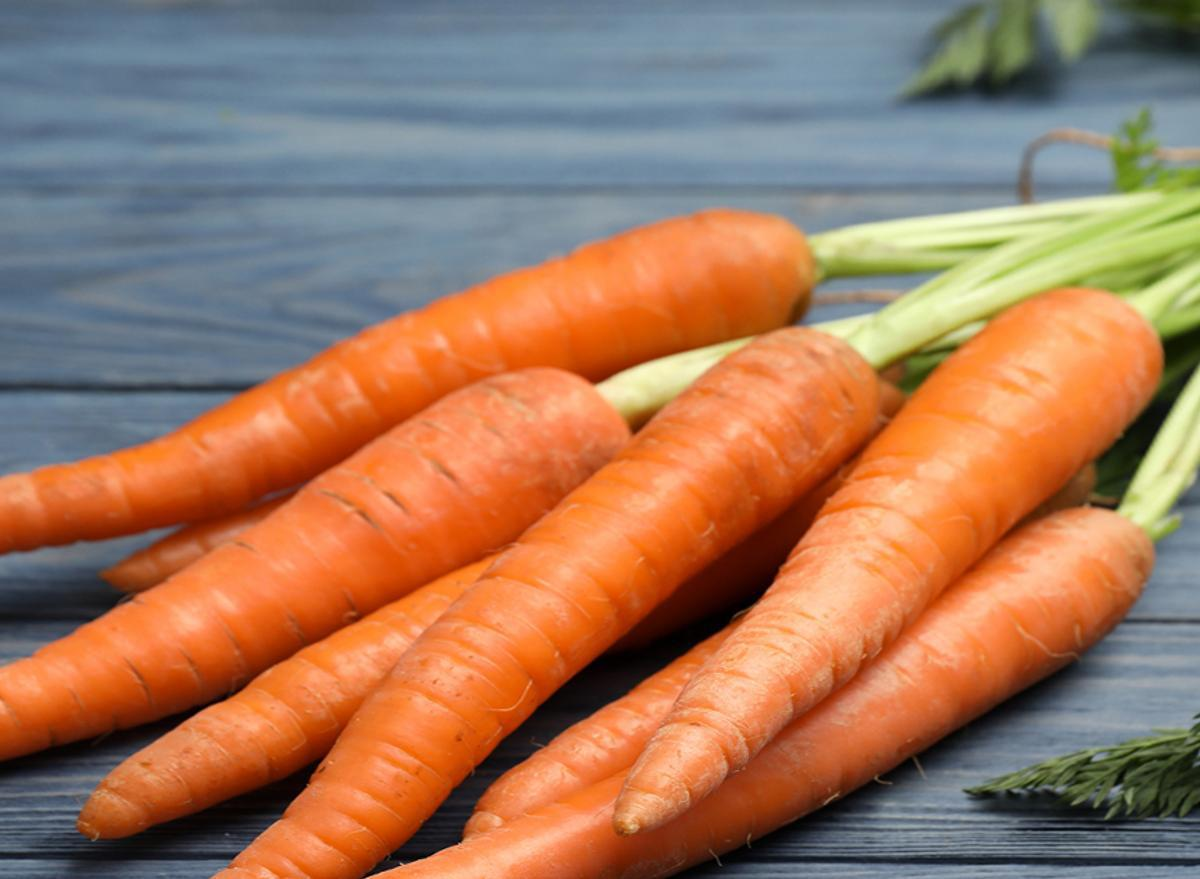carrot: (5, 169, 1200, 879), (302, 346, 934, 879), (612, 289, 1153, 773), (38, 354, 586, 808)
